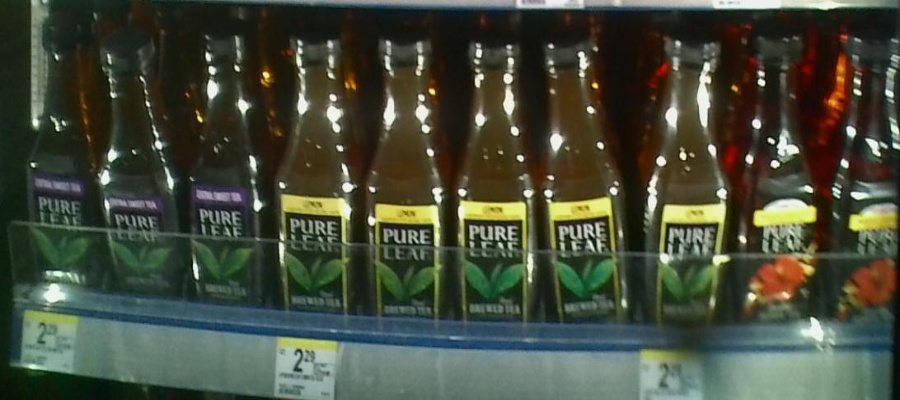bottle: (529, 27, 639, 332), (636, 22, 733, 324), (271, 26, 366, 317), (363, 25, 452, 328), (732, 28, 823, 324), (97, 22, 188, 297), (452, 30, 534, 330), (824, 22, 900, 330), (194, 39, 273, 310), (22, 15, 102, 271)
